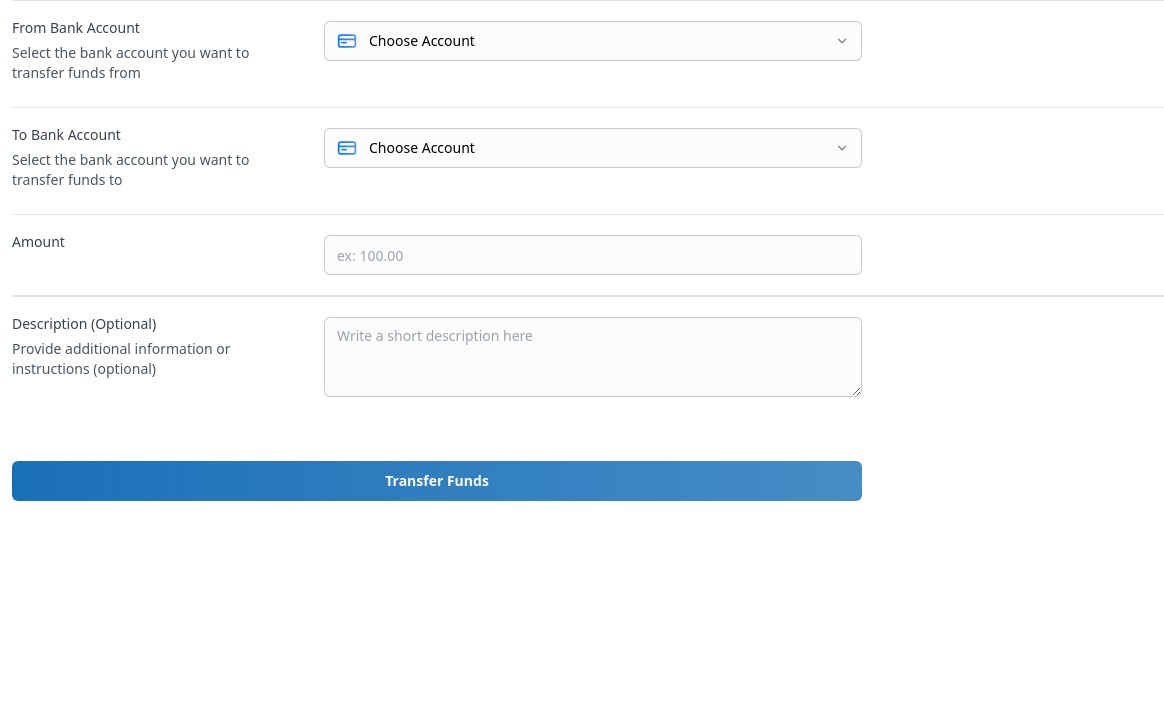
TransferFundsForm Component › should display validation errors when required fields are empty
Click on submit button without filling the form
Click the button "Transfer Funds".
click(437, 481)  # box [12,461,862,501]
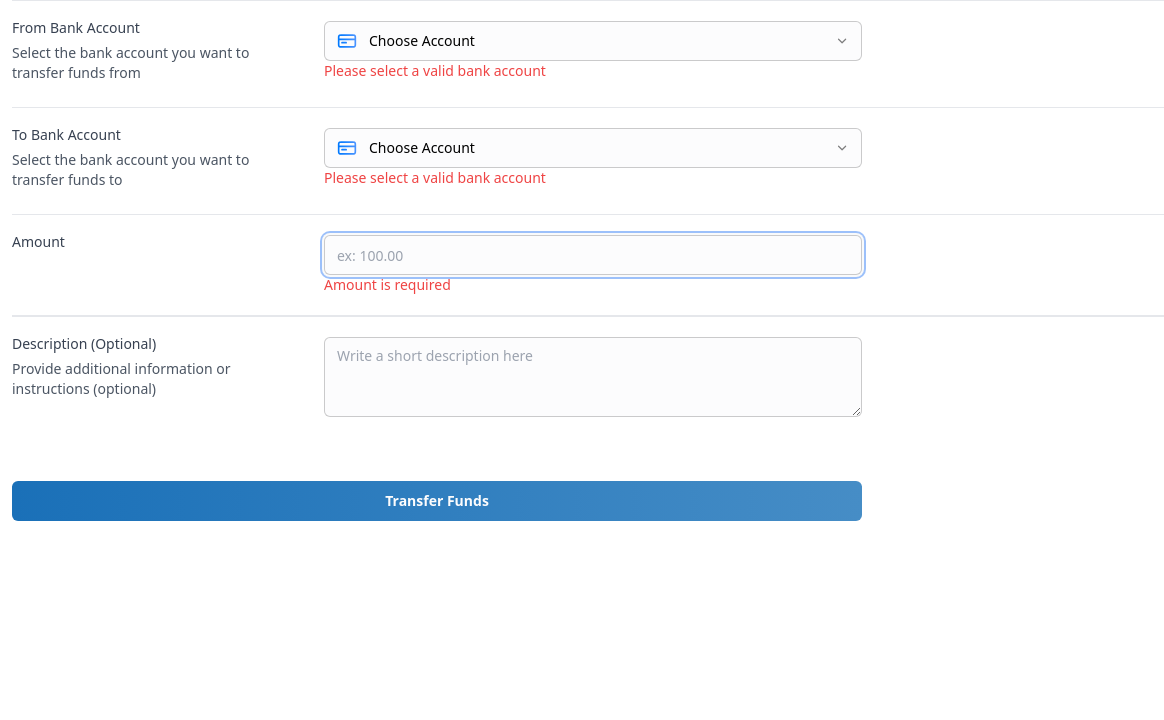
Expected: the text "Please select a valid bank account" is shown 2 times, [324,61,546,80]; [324,168,546,187]
Expected: the text "Amount is required" is shown, [324,275,451,294]
